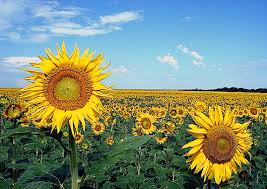girasol: (33, 46, 109, 126), (182, 105, 253, 182), (133, 114, 155, 133)
